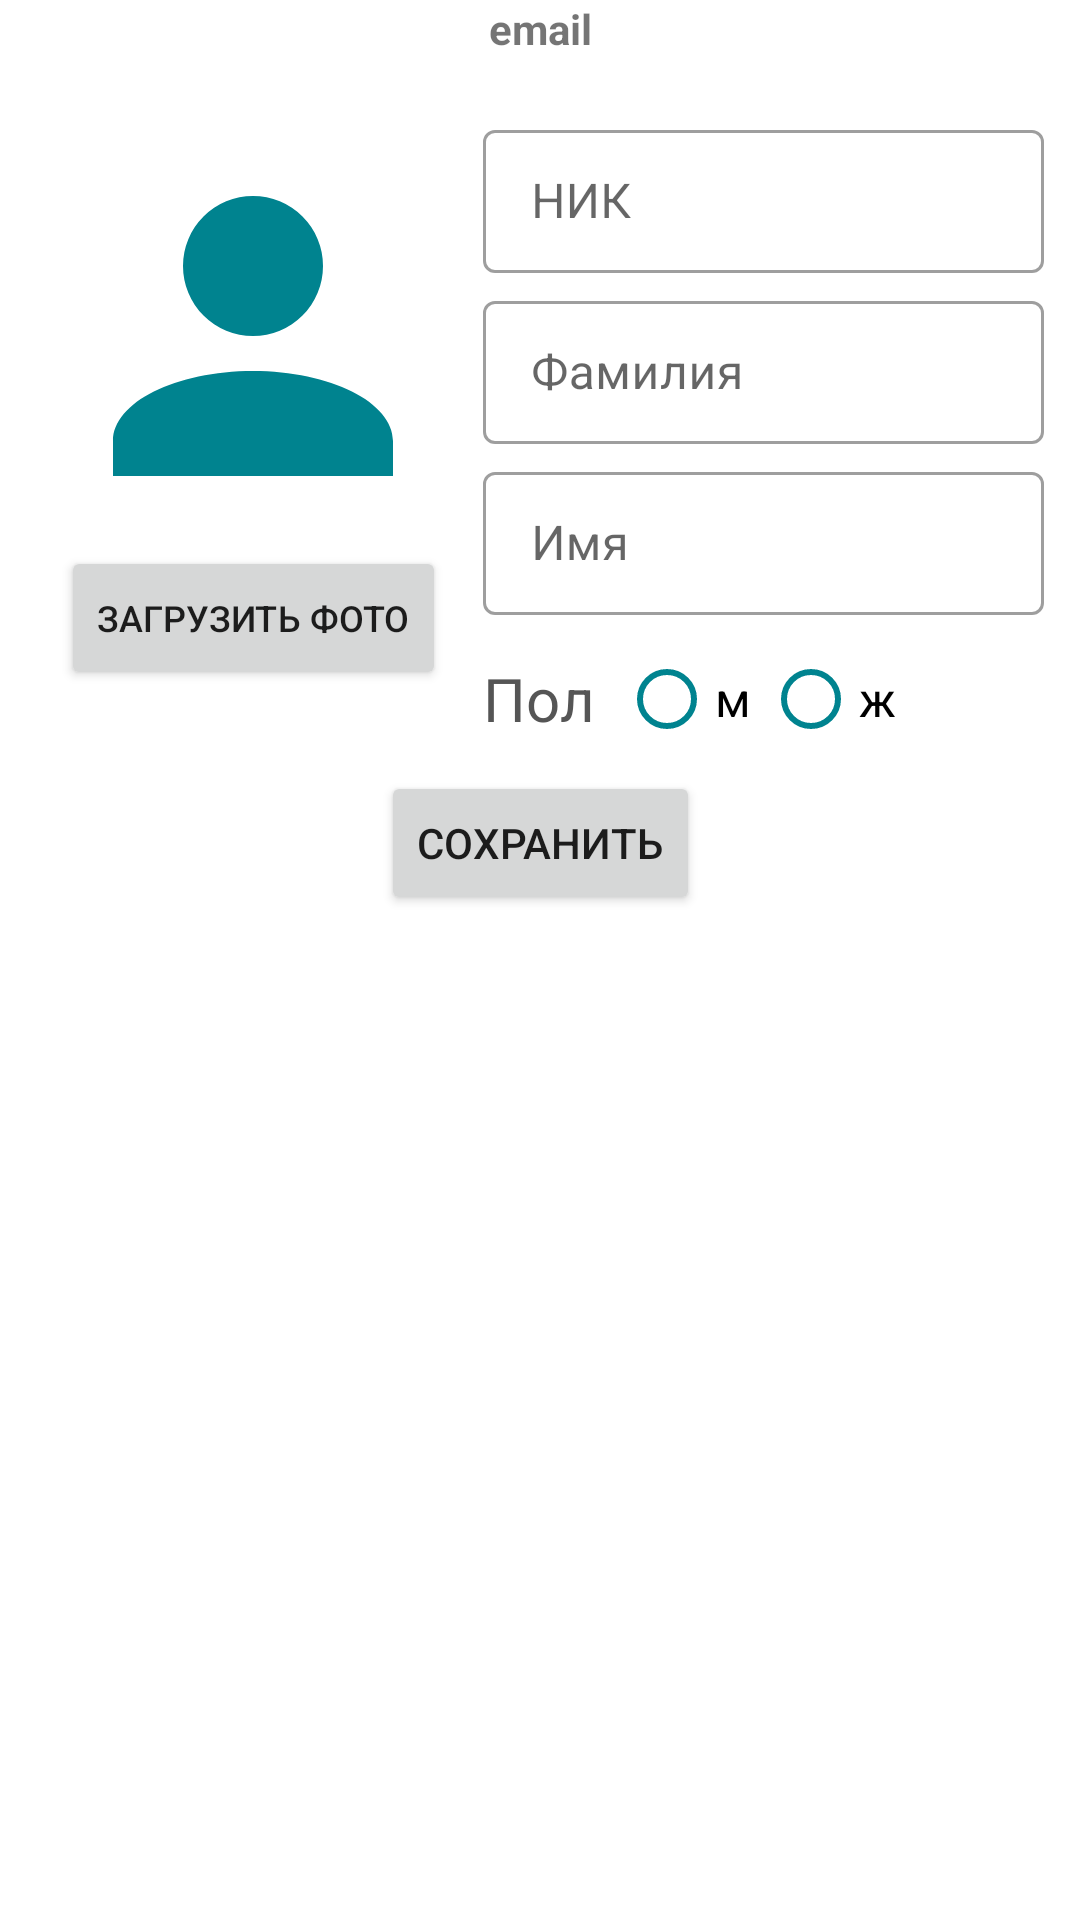

Screen size 1080×1920. Icon name, then its center in pixels as [x,y]:
user: [253,336]
